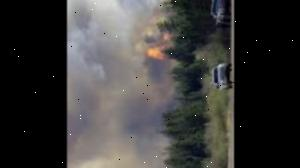fire: (145, 32, 179, 66)
